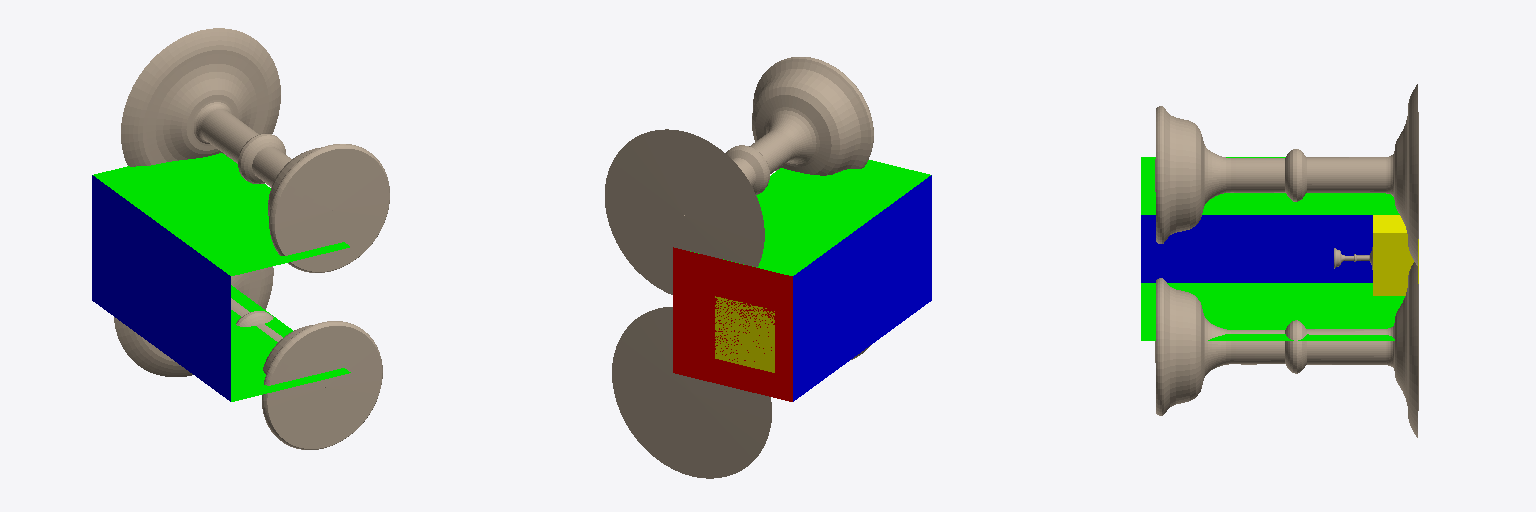
File: locoJuan.obj
The picture shows the model from 3 angles: view 1: azimuth 30°, elevation 25°; view 2: azimuth 150°, elevation 25°; view 3: azimuth 270°, elevation 25°; orthographic projection.
Parts seen in each view (by area): view 1: Box01, LocoJuan, LocoJuan01; view 2: Box01, LocoJuan, LocoJuan01, Box02; view 3: Box01, LocoJuan, LocoJuan01, Box02.
Boxes of the visible parts, box(x1,y1,x2,y2) form: Box01: box(92, 153, 350, 401); LocoJuan: box(121, 28, 389, 272); LocoJuan01: box(114, 266, 382, 449); Box01: box(673, 160, 931, 401); LocoJuan: box(605, 57, 873, 294); LocoJuan01: box(612, 307, 870, 478); Box02: box(715, 296, 774, 372); Box01: box(1141, 157, 1404, 340); LocoJuan: box(1155, 84, 1418, 265); LocoJuan01: box(1155, 262, 1418, 437); Box02: box(1373, 215, 1418, 295).
Size of the model in its own units: 47.03 by 81.82 by 60.